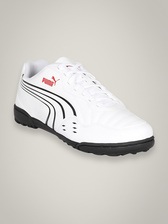shoes: (13, 57, 157, 160)
